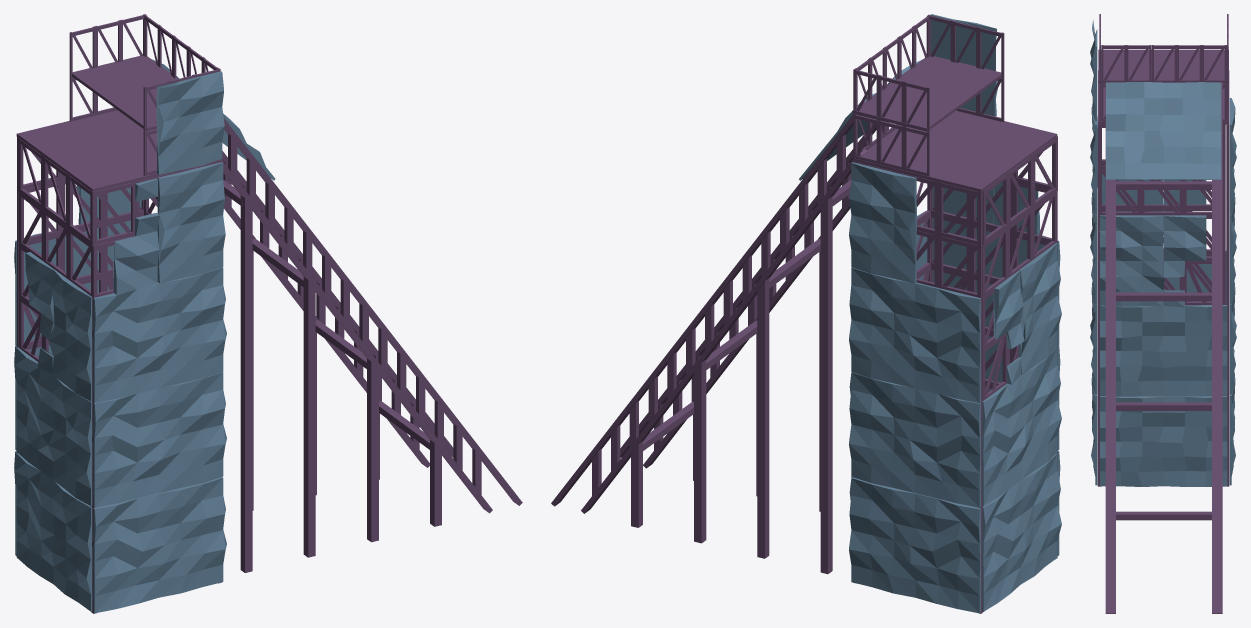
The model's file is toilhouse2.FBX.
3 renders of one model, left to right at view 1: azimuth 30°, elevation 25°; view 2: azimuth 150°, elevation 25°; view 3: azimuth 270°, elevation 25°, orthographic. The views are drawn at different scales.
Parts seen in each view (by area): view 1: Box022, Box015, Box032, Box027, Group002, Box020, Box028, Box021, Box024, Box012, Box011, Box023 (+5 smaller); view 2: Box023, Box015, Box032, Group002, Box028, Box020, Box022, Box021, Box027, Box012, Box014, Box011 (+6 smaller); view 3: Box037, Box018, Box017, Box028, Box027, Group001, Box021, Group002, Box022, Box013, Box019, Box023 (+10 smaller).
Boxes of the visible parts, x1=… form: Box022: x1=93, y1=71, x2=225, y2=613; Box015: x1=14, y1=270, x2=92, y2=611; Box032: x1=240, y1=195, x2=441, y2=572; Box027: x1=221, y1=118, x2=522, y2=513; Group002: x1=17, y1=14, x2=221, y2=246; Box020: x1=16, y1=110, x2=220, y2=191; Box028: x1=221, y1=151, x2=453, y2=467; Box021: x1=72, y1=56, x2=177, y2=131; Box024: x1=113, y1=178, x2=159, y2=294; Box012: x1=19, y1=193, x2=91, y2=612; Box011: x1=17, y1=180, x2=143, y2=452; Box023: x1=14, y1=185, x2=141, y2=555; Box023: x1=849, y1=162, x2=980, y2=613; Box015: x1=982, y1=243, x2=1061, y2=611; Box032: x1=631, y1=196, x2=832, y2=574; Group002: x1=852, y1=14, x2=1057, y2=246; Box028: x1=551, y1=114, x2=867, y2=513; Box020: x1=853, y1=110, x2=1057, y2=192; Box022: x1=931, y1=14, x2=1060, y2=555; Box021: x1=853, y1=56, x2=1001, y2=131; Box027: x1=620, y1=120, x2=888, y2=468; Box012: x1=982, y1=192, x2=1055, y2=611; Box014: x1=931, y1=181, x2=1057, y2=558; Box011: x1=853, y1=230, x2=982, y2=613; Box037: x1=1106, y1=82, x2=1221, y2=180; Box018: x1=1099, y1=305, x2=1227, y2=396; Box017: x1=1099, y1=396, x2=1227, y2=486; Box028: x1=1212, y1=82, x2=1222, y2=613; Box027: x1=1105, y1=82, x2=1115, y2=613; Group001: x1=1099, y1=215, x2=1164, y2=306; Box021: x1=1098, y1=49, x2=1228, y2=83; Group002: x1=1098, y1=14, x2=1229, y2=170; Box022: x1=1090, y1=20, x2=1097, y2=485; Box013: x1=1100, y1=170, x2=1225, y2=486; Box019: x1=1163, y1=215, x2=1206, y2=307; Box023: x1=1229, y1=98, x2=1236, y2=485.
Size of the model in its own units: 491 by 548 by 165.
